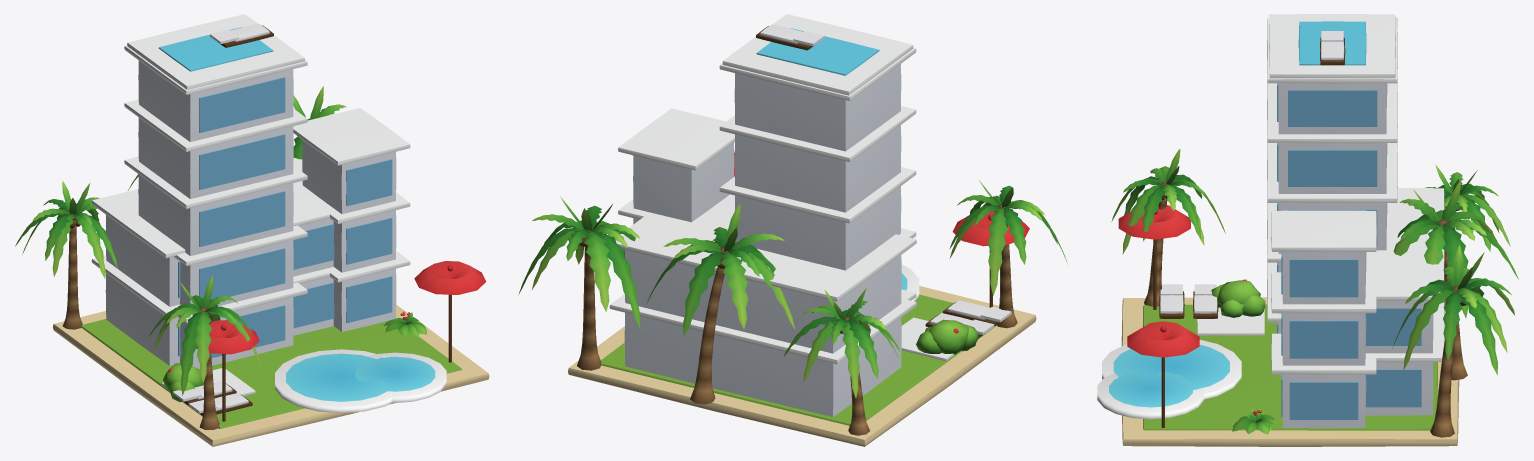
Rendered from LuxuryHotel_L4.obj.
The picture shows the model from 3 angles, left to right: view 1: azimuth 30°, elevation 25°; view 2: azimuth 150°, elevation 25°; view 3: azimuth 270°, elevation 25°; orthographic projection. The views are drawn at different scales.
Visible parts, largest first — view 1: LuxuryHotel_L4; view 2: LuxuryHotel_L4; view 3: LuxuryHotel_L4.
Boxes of the visible parts, bbox=[...] form: LuxuryHotel_L4: bbox=[15, 14, 489, 446]; LuxuryHotel_L4: bbox=[518, 14, 1067, 446]; LuxuryHotel_L4: bbox=[1097, 14, 1518, 446].
Size of the model in its own units: 4.85 by 4.28 by 4.99.
Materials: 1 (1 with a texture image).
